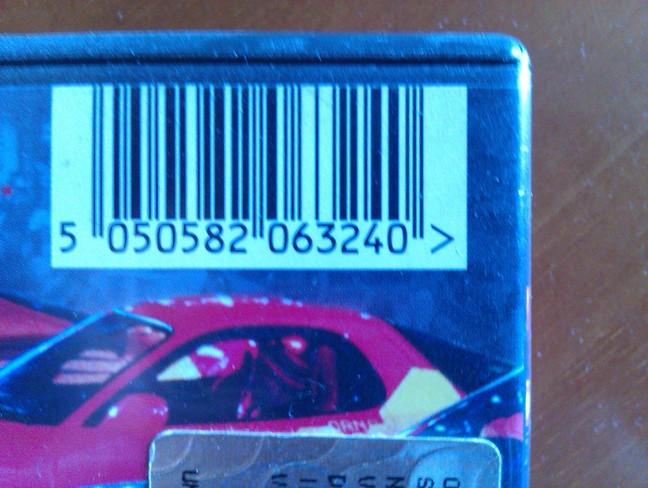detection: (52, 86, 465, 268)
